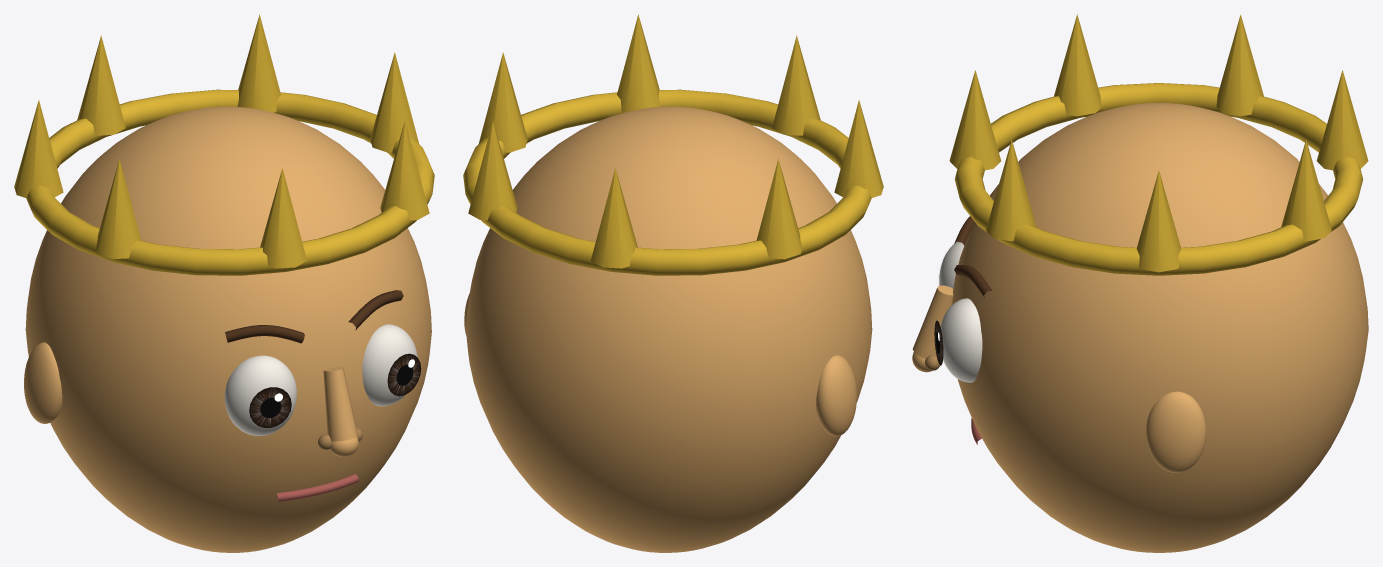
The model's file is 17-couronne.glb.
3 views of the same model, side by side, from view 1: azimuth 30°, elevation 25°; view 2: azimuth 150°, elevation 25°; view 3: azimuth 270°, elevation 25° (orthographic).
Bounding box in the file's own units: 0.3087 × 0.3455 × 0.3166.
Materials: 10 (1 with a texture image).
